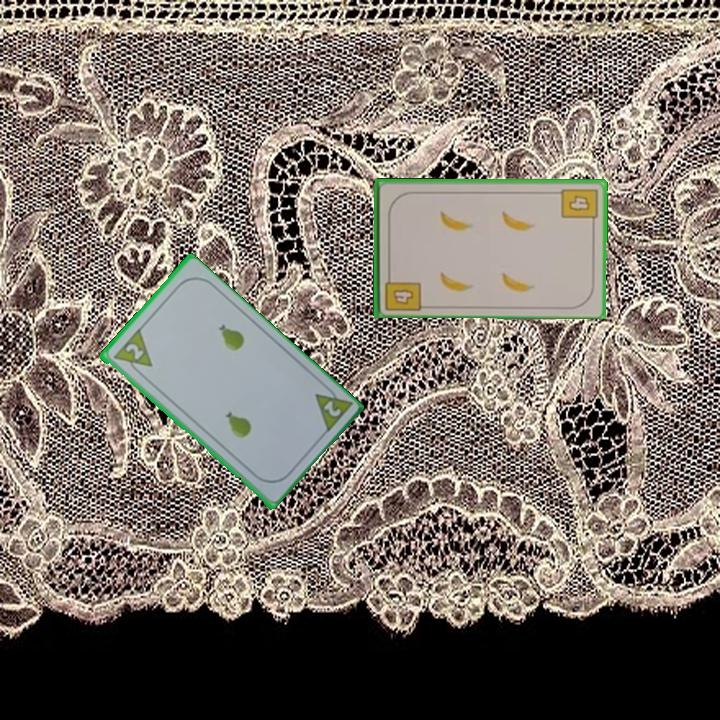2p: (310, 380, 354, 437), (121, 339, 146, 363)
4b: (381, 269, 423, 313), (558, 185, 600, 228)
